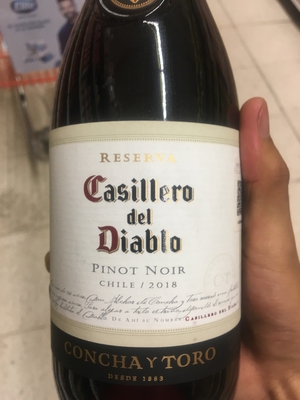casillero del diablo pinot noir: (46, 11, 255, 384)
